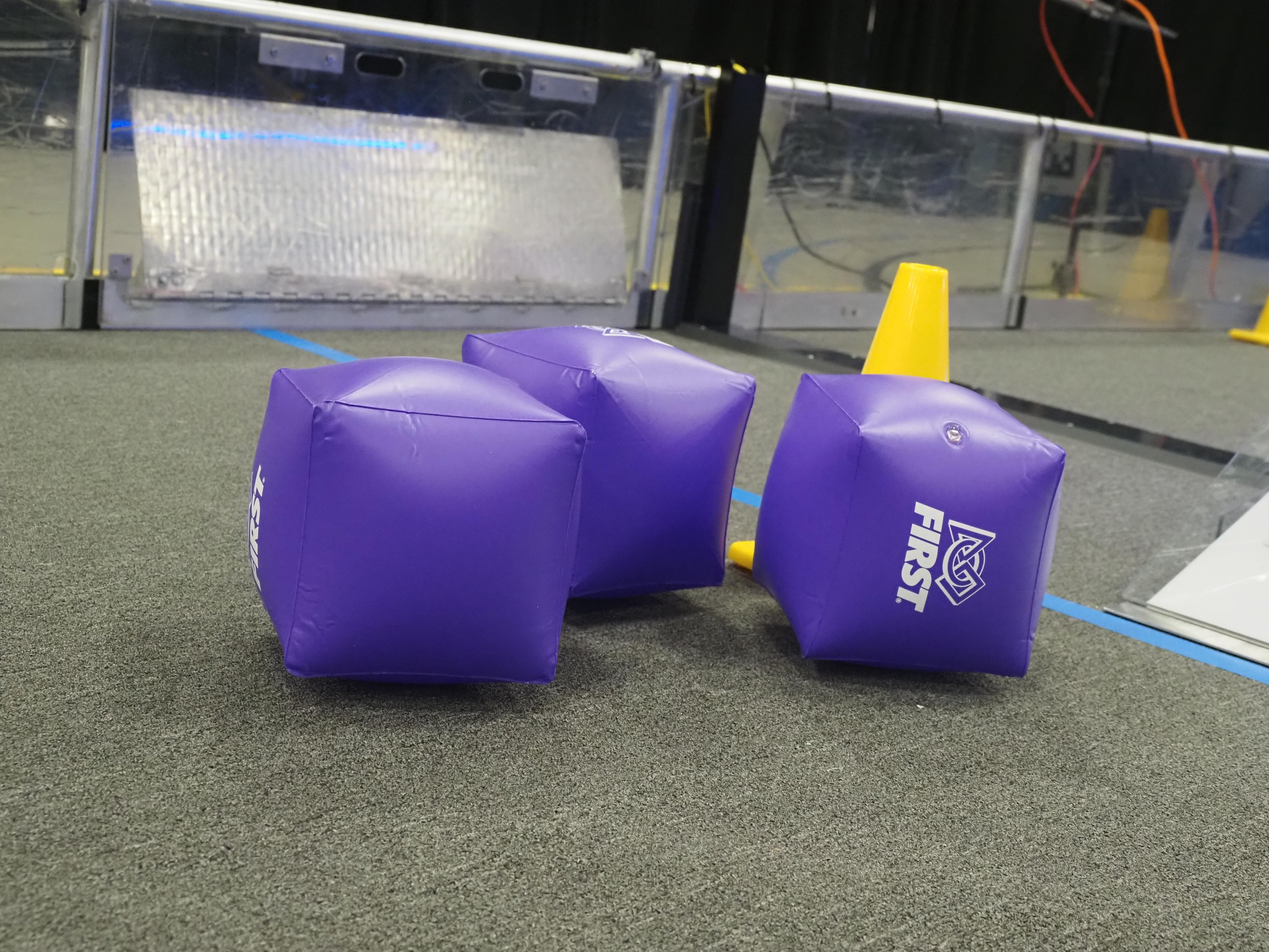cone: (729, 260, 966, 577), (1226, 269, 1269, 353)
cube: (236, 350, 567, 692), (749, 369, 1072, 684), (453, 318, 761, 610)
